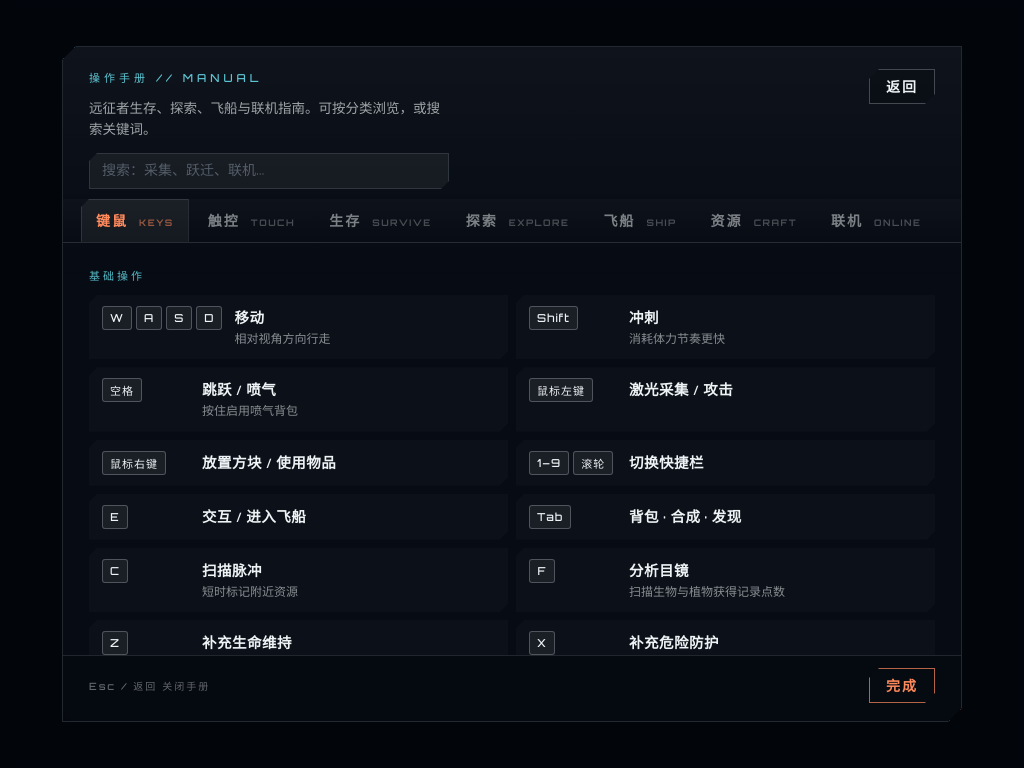
Scenario: HelpScreen › filters content by search query
Type "跃迁" into the search field with class "help-search" at (269, 171), box [89, 153, 449, 189]
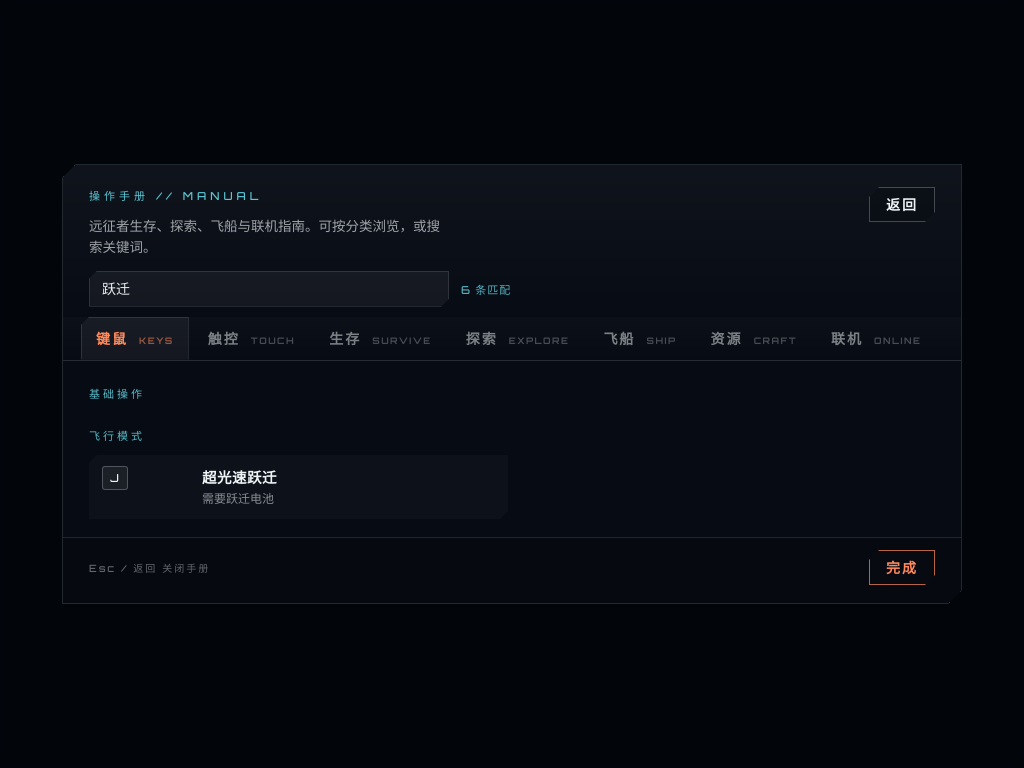
Now the text "跃迁" is shown, box [202, 466, 277, 488]
